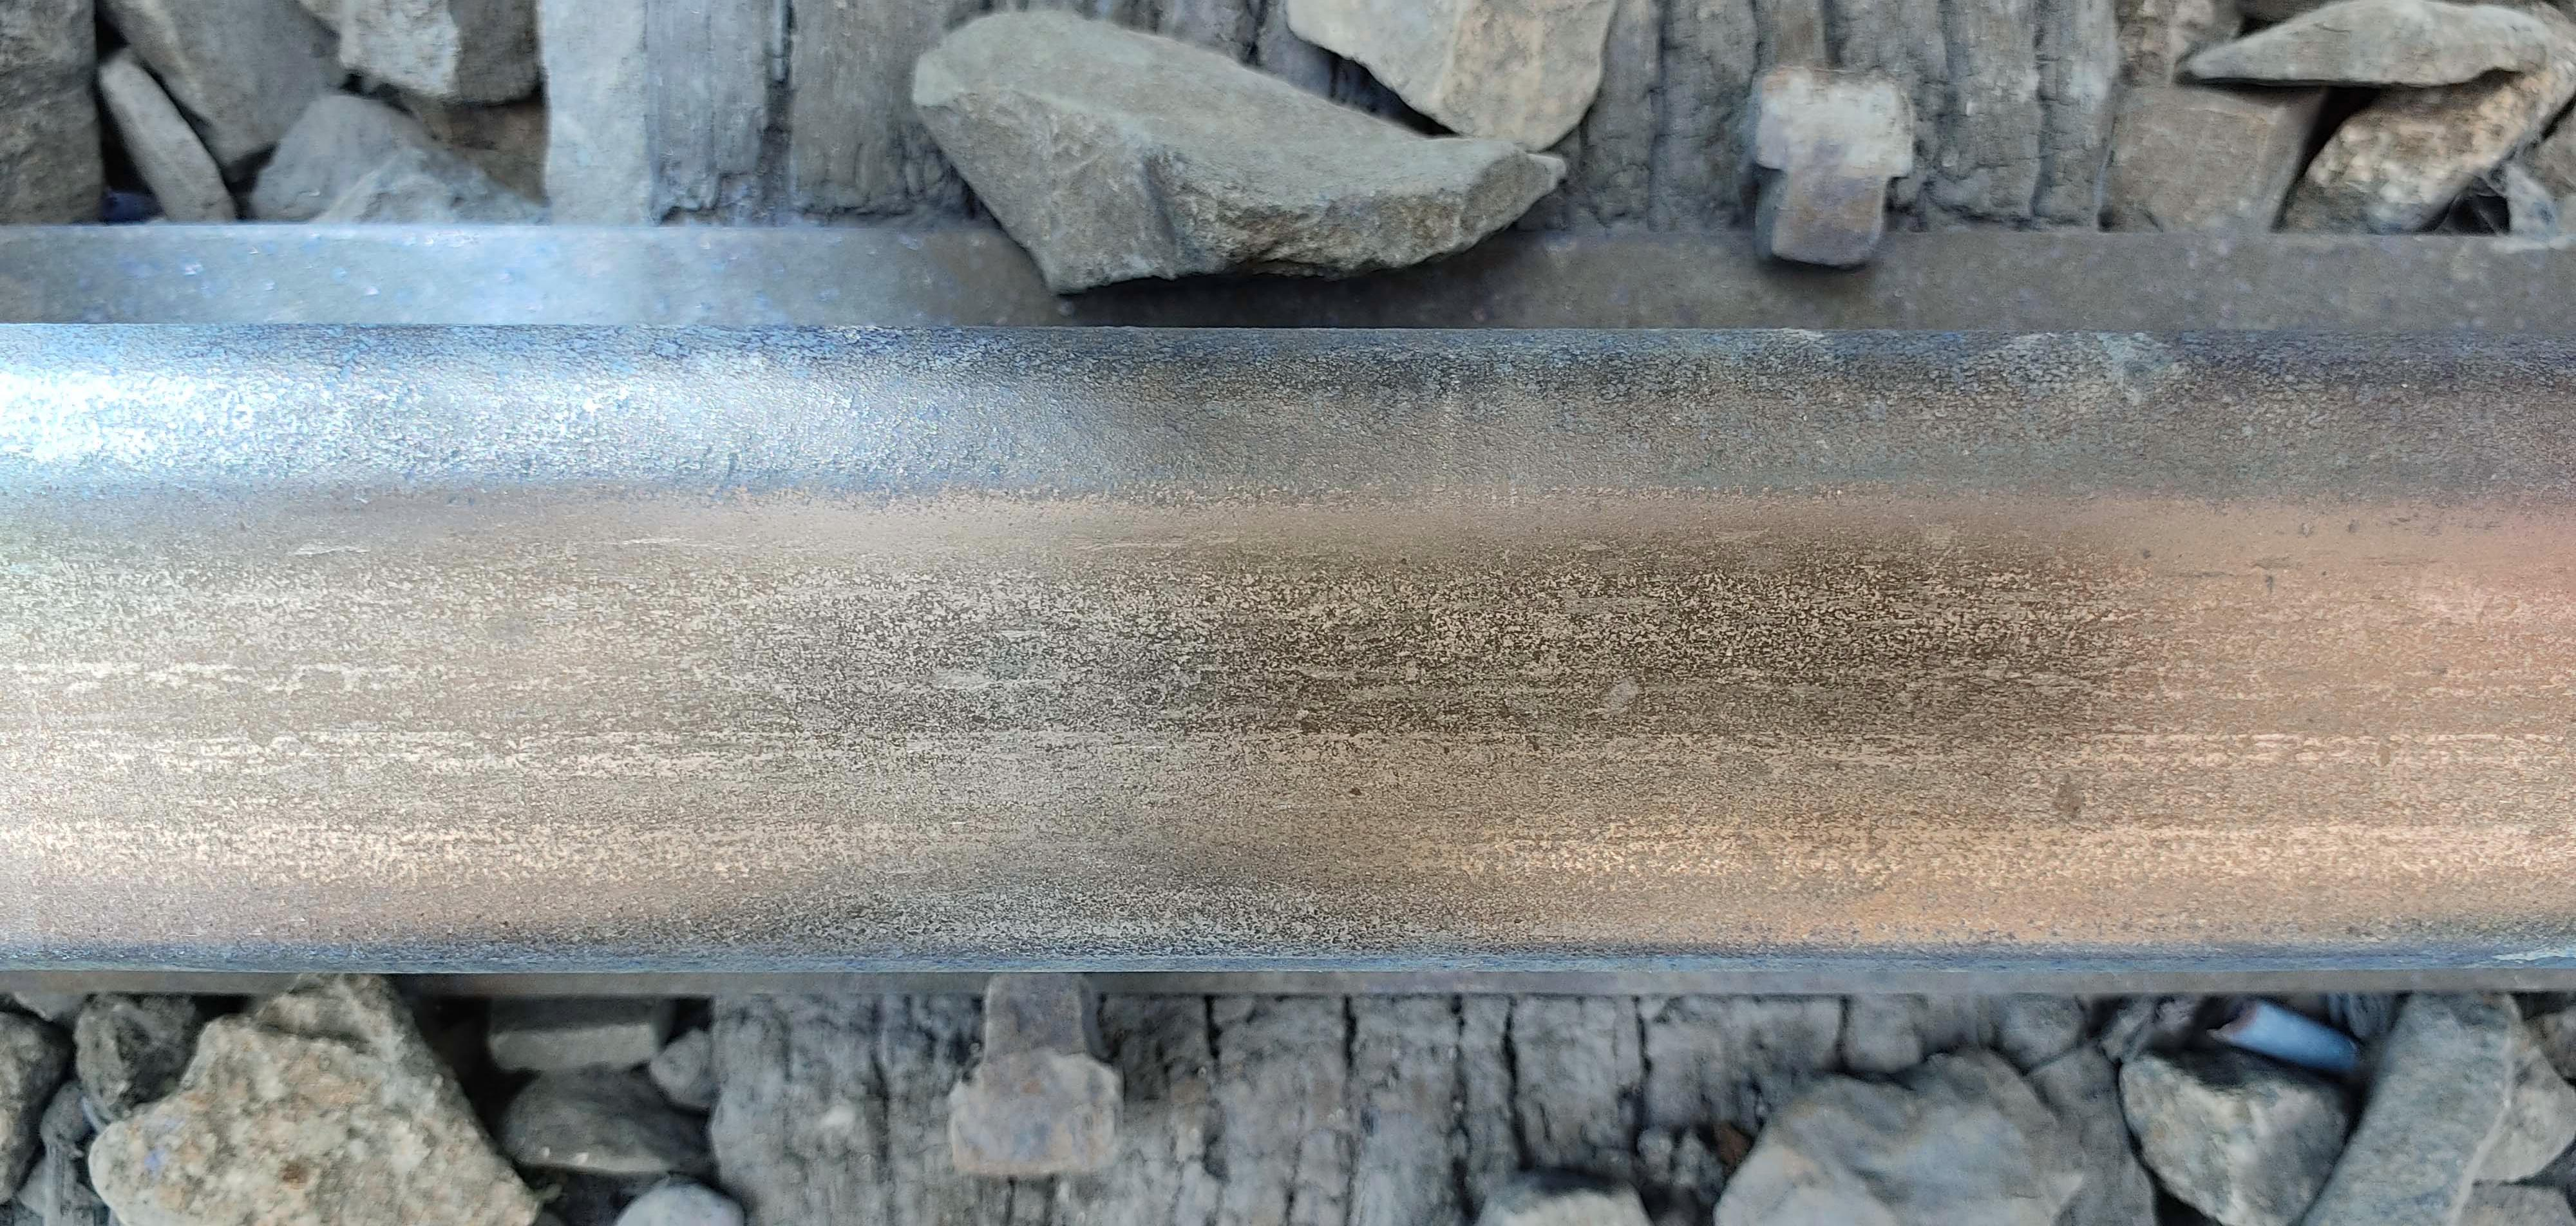error1: (899, 937, 1212, 1226), (1730, 5, 1973, 316)
